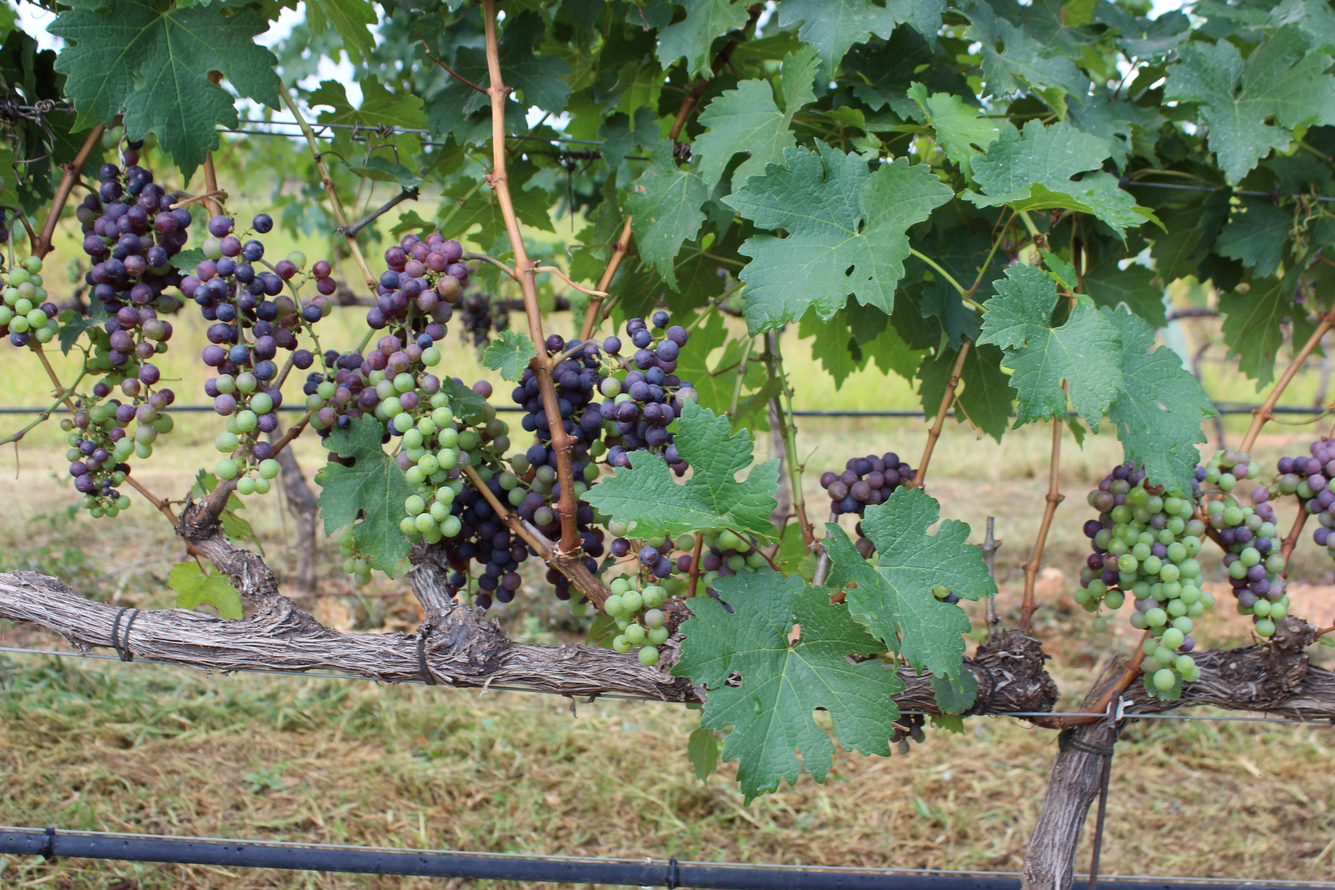leaf: (673, 568, 904, 803), (726, 141, 953, 332), (48, 0, 281, 180), (826, 487, 997, 677), (1164, 25, 1335, 183), (585, 402, 778, 538), (978, 264, 1122, 431), (962, 120, 1157, 236), (1109, 309, 1215, 492), (691, 46, 819, 189), (317, 415, 414, 572), (627, 138, 709, 289), (778, 0, 945, 69), (1219, 275, 1307, 391), (907, 82, 1003, 174), (657, 0, 748, 74), (1212, 197, 1294, 277), (955, 343, 1016, 442), (1084, 258, 1166, 327), (168, 560, 243, 620), (483, 330, 537, 381), (917, 349, 957, 417), (1295, 337, 1301, 342), (1332, 81, 1335, 89), (669, 6, 670, 9), (669, 13, 670, 14), (929, 594, 929, 595)
